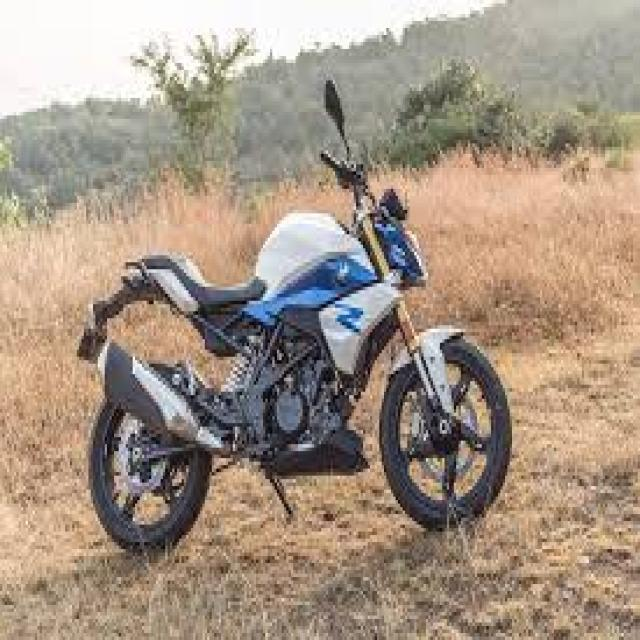MOTORCYCLE: (82, 173, 512, 535)
